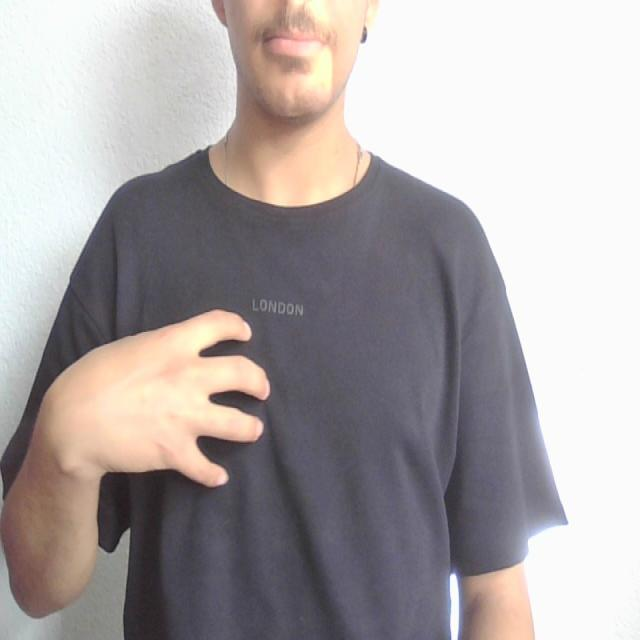Anne: (40, 302, 472, 496)
